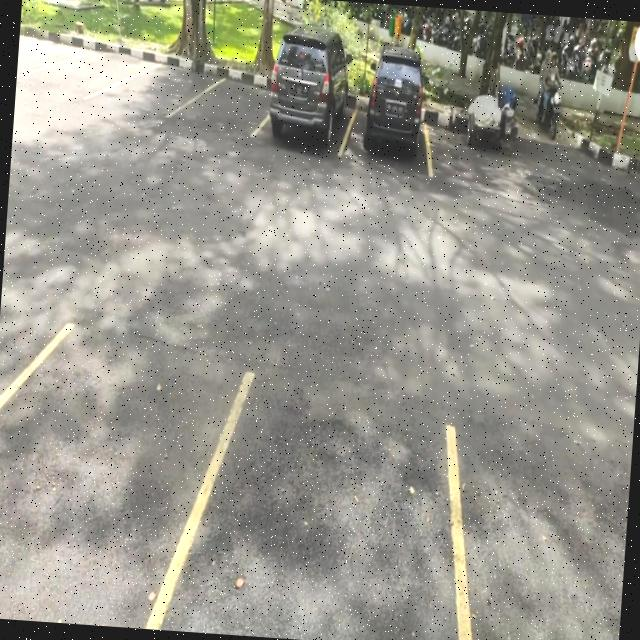empty: (191, 366, 483, 640), (0, 314, 218, 632), (32, 37, 126, 104), (189, 66, 271, 142), (114, 52, 200, 122)
occupied: (254, 44, 354, 158), (344, 62, 439, 176)
